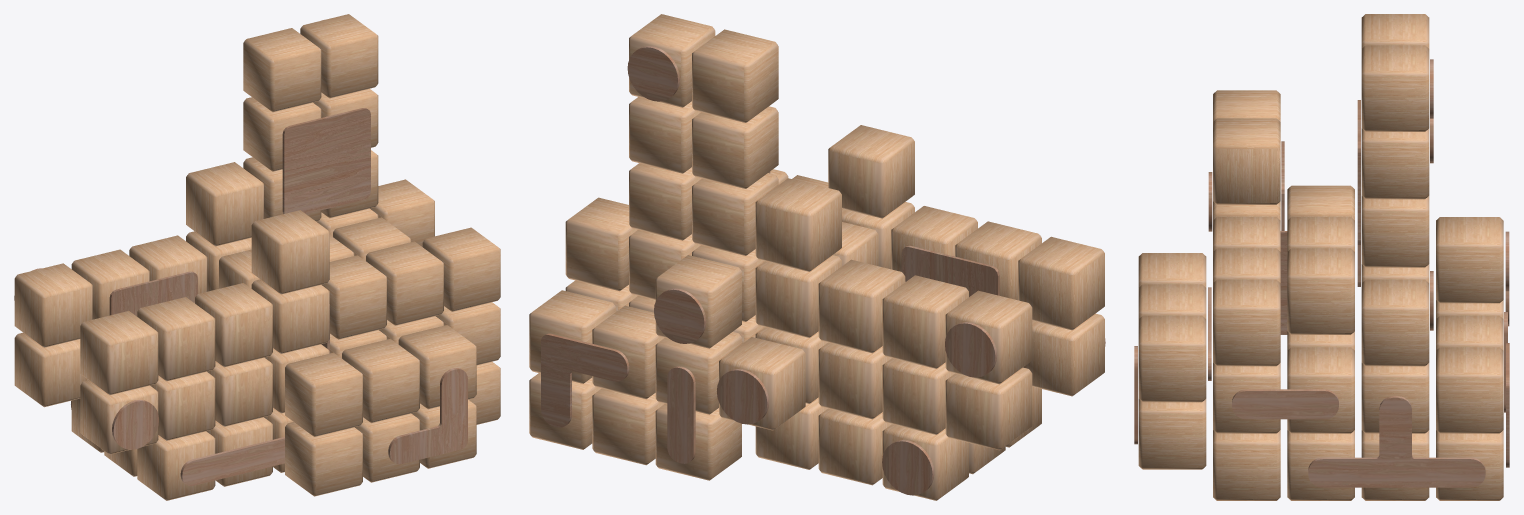
The model's file is level_111.fbx.
The picture shows the model from 3 angles, left to right: view 1: azimuth 30°, elevation 25°; view 2: azimuth 150°, elevation 25°; view 3: azimuth 270°, elevation 25°; orthographic projection. The views are drawn at different scales.
Parts seen in each view (by area): view 1: obj_obs_square.004, Cube.010, Cube.071, Cube.077, Cube.002, Cube.043, Cube.026, Cube.027, Cube.046, Cube.072, Cube.075, Cube.003 (+34 smaller); view 2: Cube.026, Cube.071, Cube.077, Cube.010, Cube.042, Cube.069, Cube.035, Cube.041, Cube.060, Cube.078, Cube.064, Cube.025 (+34 smaller); view 3: obj_obs_T.001, Cube.004, Cube.060, Cube.072, Cube.053, Cube.024, Cube.056, Cube.073, Cube.010, Cube.065, Cube.070, Cube.029 (+24 smaller).
Part boxes in pixels (x1,y1,x2,y2): obj_obs_square.004: (282,108,370,213); Cube.010: (251,210,329,294); Cube.071: (243,28,321,112); Cube.077: (80,311,158,394); Cube.002: (285,352,362,436); Cube.043: (14,263,92,347); Cube.026: (186,162,263,246); Cube.027: (285,422,362,496); Cube.046: (195,283,272,367); Cube.072: (300,14,378,98); Cube.075: (137,297,215,381); Cube.003: (342,338,419,423); Cube.026: (755,178,841,271); Cube.071: (692,29,778,122); Cube.077: (1018,236,1104,330); Cube.010: (828,125,914,218); Cube.042: (945,367,1032,450); Cube.069: (692,106,778,188); Cube.035: (818,259,905,353); Cube.041: (882,275,968,368); Cube.060: (565,197,637,291); Cube.078: (1023,313,1104,396); Cube.064: (692,173,778,255); Cube.025: (755,255,841,337); obj_obs_T.001: (1308,396,1485,487); Cube.004: (1138,315,1206,402); Cube.060: (1361,279,1429,366); Cube.072: (1361,45,1429,131); Cube.053: (1213,279,1280,366); Cube.024: (1436,347,1503,433); Cube.056: (1287,248,1354,334); Cube.073: (1436,217,1503,303); Cube.010: (1213,118,1280,204); Cube.065: (1361,196,1429,267); Cube.070: (1361,128,1429,199); Cube.029: (1138,399,1206,469).
Size of the model in its own units: 15.39 by 13.04 by 11.12.
